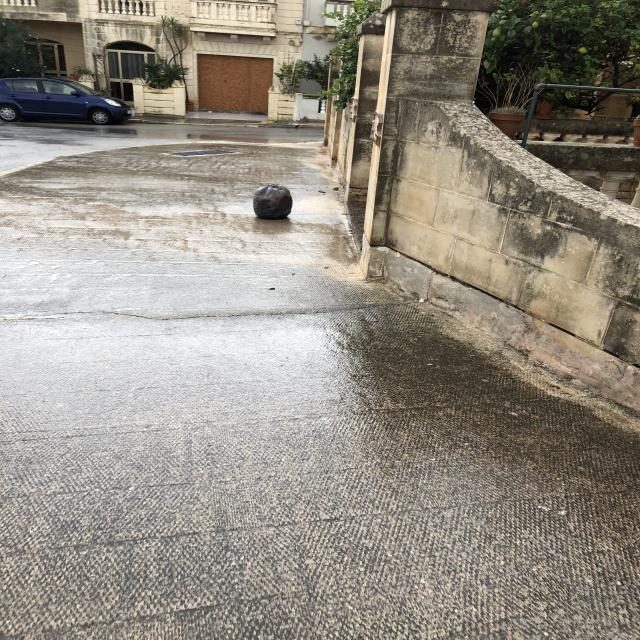Mixed Waste -Black Bag-: (254, 184, 294, 221)
